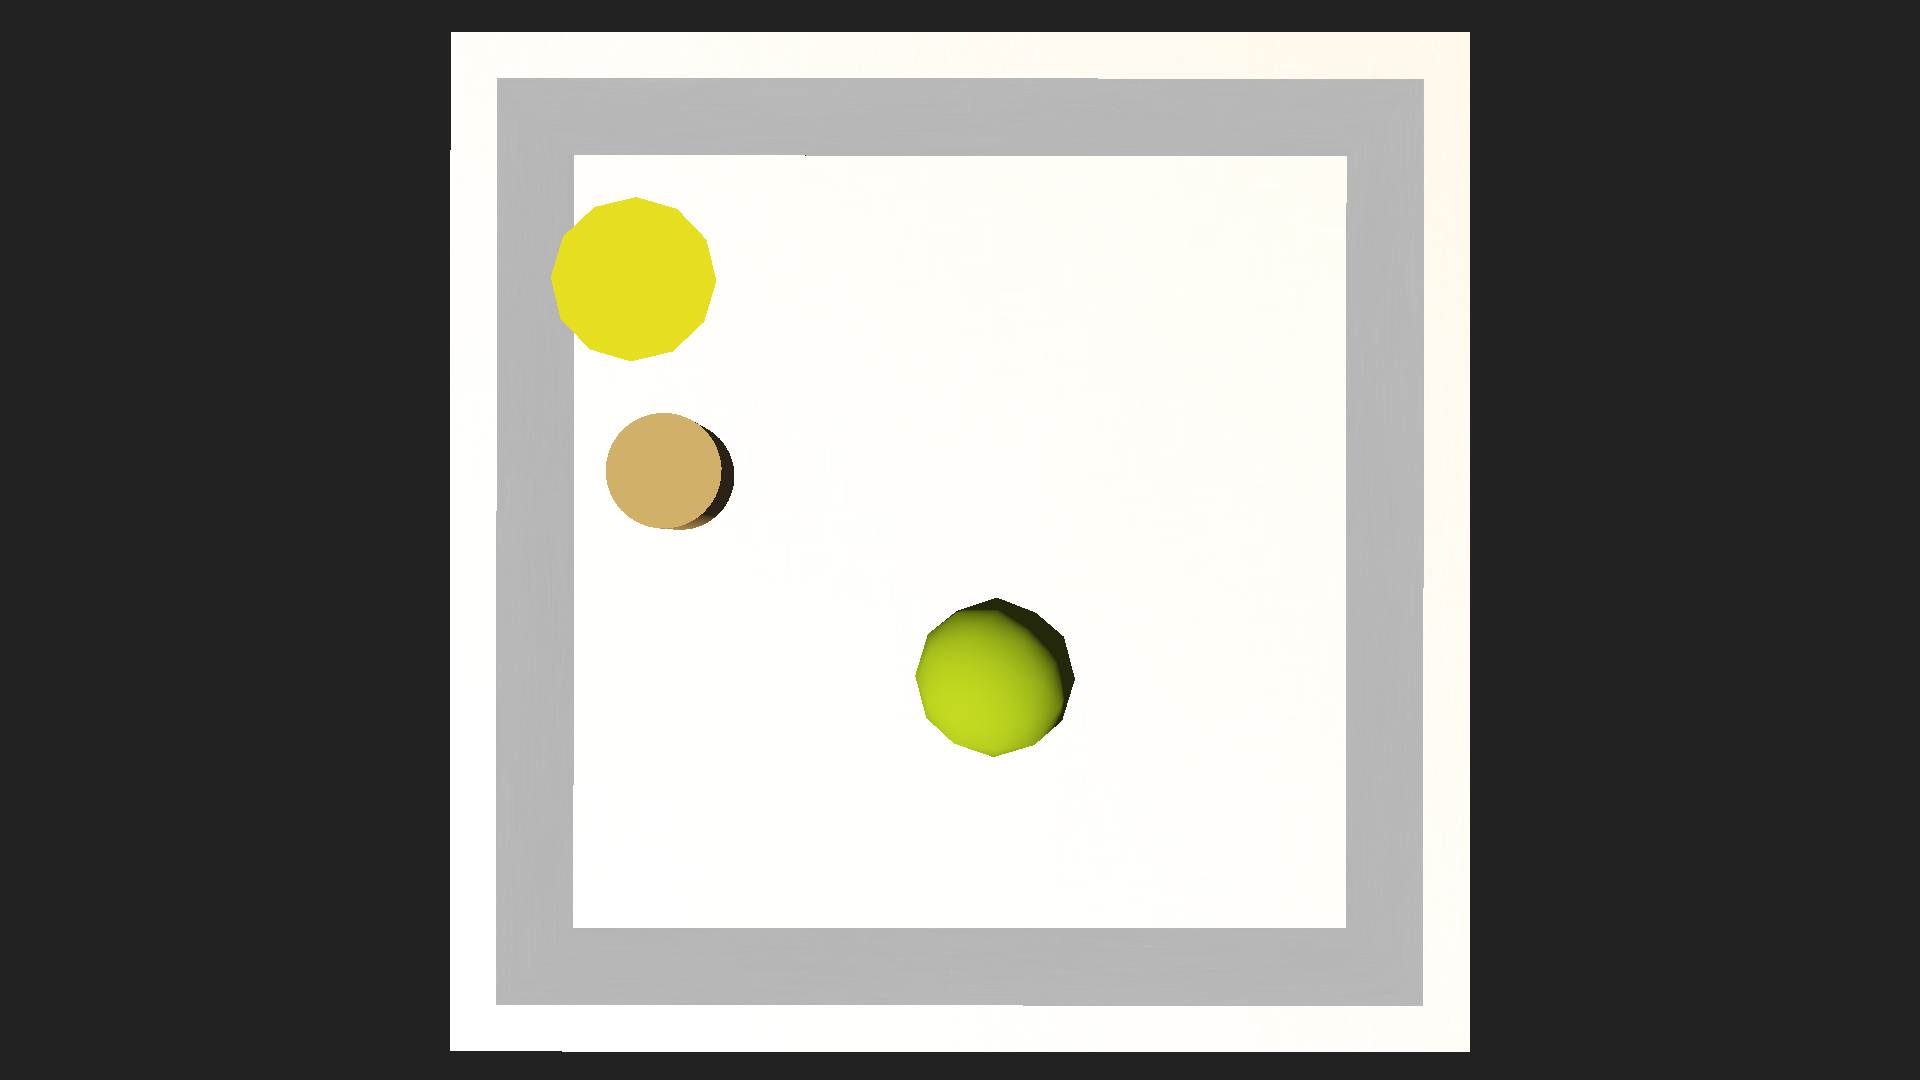cone: (603, 413, 737, 530)
cylinder: (556, 200, 727, 375)
sphere: (914, 596, 1073, 756)
